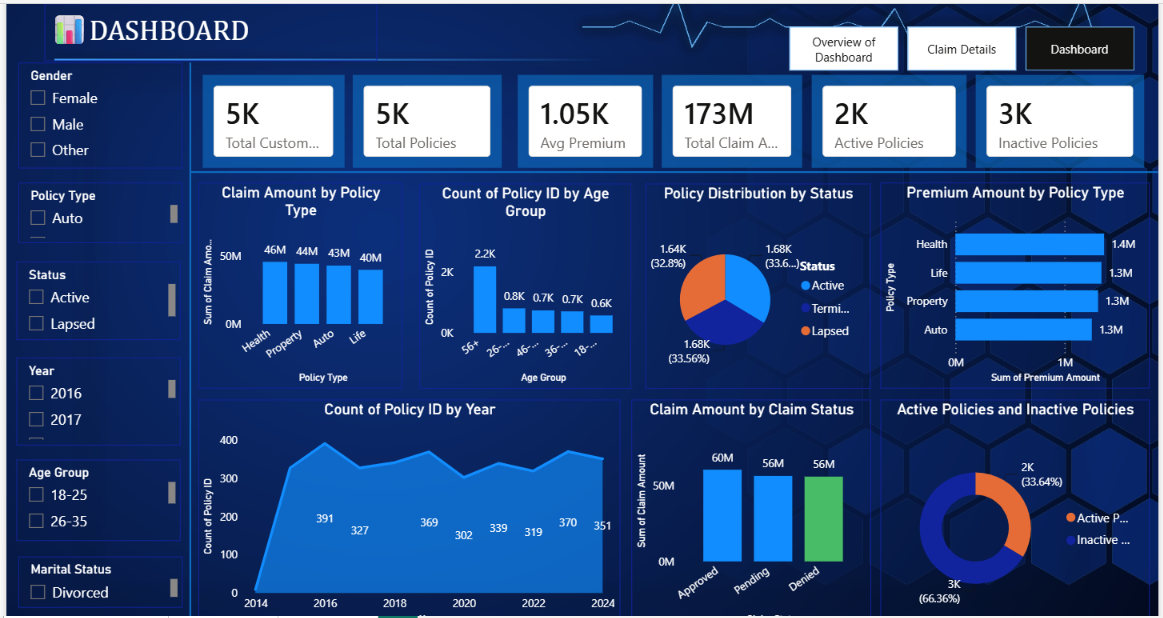

Layout of this report page (visuals, bound fields, positions):
{"tool":"powerbi","page":{"name":"Dashboard","canvas":[1280,720],"ordinal":2},"visuals":[{"type":"cardVisual","fields":{"Data":["Claims.Total Customers"]},"box":[212.8,98.8,167.4,114],"z":0},{"type":"cardVisual","fields":{"Data":["Claims.Total Policies"]},"box":[380.2,98.8,175.6,114],"z":1000},{"type":"cardVisual","fields":{"Data":["Claims.Total avg premimum amt"]},"box":[562.8,98.8,160.5,114],"z":2000},{"type":"cardVisual","fields":{"Data":["Claims.Total Claim Amount"]},"box":[723.3,98.8,166.3,114],"z":3000},{"type":"cardVisual","fields":{"Data":["Claims.Active Policies"]},"box":[889.5,98.8,182.6,114],"z":4000},{"type":"cardVisual","fields":{"Data":["Claims.Inactive Policies"]},"box":[1072.1,98.8,197.7,114],"z":5000},{"type":"pieChart","title":"Policy Distribution by Status","fields":{"Category":["Policy_details.Status"],"Y":["Count(Policy_details.Policy ID)"]},"box":[710.5,224.4,250,227.9],"z":6000},{"type":"clusteredBarChart","title":"Premium Amount by Policy Type","fields":{"Category":["Policy_details.Policy Type"],"Y":["Sum(Policy_details.Premium Amount)"]},"box":[970.9,223.3,298.8,229.1],"z":7000},{"type":"clusteredColumnChart","title":"Claim Amount by Claim Status","fields":{"Category":["Claims.Claim Status"],"Y":["Sum(Claims.Claim Amount)"]},"box":[694.2,464,266.3,255.8],"z":8000},{"type":"stackedAreaChart","fields":{"Category":["Policy_details.Policy Start Date.Variation.Date Hierarchy.Year"],"Y":["CountNonNull(Claims.Policy ID)"]},"box":[212.8,464,468.6,255.8],"z":9000},{"type":"clusteredColumnChart","fields":{"Category":["Customer_info.Age Group"],"Y":["CountNonNull(Policy_details.Policy ID)"]},"box":[459.3,224.4,234.9,227.9],"z":10000},{"type":"clusteredColumnChart","title":" Claim Amount by Policy Type","fields":{"Category":["Policy_details.Policy Type"],"Y":["Sum(Claims.Claim Amount)"]},"box":[212.8,223.3,226.7,229.1],"z":11000},{"type":"shape","box":[204.7,187.2,1075.6,50],"z":12000},{"type":"shape","box":[181.4,89.5,46.5,618.6],"z":13000},{"type":"slicer","fields":{"Values":["Policy_details.Policy Type"]},"box":[12.8,223.3,182.6,67.4],"z":14000},{"type":"slicer","fields":{"Values":["Policy_details.Status"]},"box":[11.6,311.6,182.6,87.2],"z":15000},{"type":"slicer","fields":{"Values":["Policy_details.Policy End Date.Variation.Date Hierarchy.Year"]},"box":[11.6,417.4,182.6,97.7],"z":16000},{"type":"slicer","fields":{"Values":["Customer_info.Marital Status"]},"box":[12.8,638.4,182.6,57],"z":17000},{"type":"slicer","fields":{"Values":["Customer_info.Age Group"]},"box":[11.6,531.4,182.6,90.7],"z":18000},{"type":"slicer","fields":{"Values":["Customer_info.Gender"]},"box":[12.8,89.5,182.6,117.4],"z":19000},{"type":"donutChart","fields":{"Y":["Claims.Active Policies","Claims.Inactive Policies"]},"box":[970.9,464,298.8,255.8],"z":20000},{"type":"textbox","box":[41.8,24.8,369.2,64.4],"z":20001},{"type":"pageNavigator","box":[871.7,33.9,385,49.7],"z":20002}]}

Visuals, with their boxes on the page's 1280x720 design canvas (x1, y1, x2, y2). These are canvas units, not pixel positions in the 1163x618 screenshot, which may show the page scaled, cropped or inside an application window:
cardVisual - Claims.Total Customers: box(213, 99, 380, 213)
cardVisual - Claims.Total Policies: box(380, 99, 556, 213)
cardVisual - Claims.Total avg premimum amt: box(563, 99, 723, 213)
cardVisual - Claims.Total Claim Amount: box(723, 99, 890, 213)
cardVisual - Claims.Active Policies: box(890, 99, 1072, 213)
cardVisual - Claims.Inactive Policies: box(1072, 99, 1270, 213)
"Policy Distribution by Status" pieChart: box(710, 224, 960, 452)
"Premium Amount by Policy Type" clusteredBarChart: box(971, 223, 1270, 452)
"Claim Amount by Claim Status" clusteredColumnChart: box(694, 464, 960, 720)
stackedAreaChart - Policy_details.Policy Start Date.Variation.Date Hierarchy.Year x CountNonNull(Claims.Policy ID): box(213, 464, 681, 720)
clusteredColumnChart - Customer_info.Age Group x CountNonNull(Policy_details.Policy ID): box(459, 224, 694, 452)
" Claim Amount by Policy Type" clusteredColumnChart: box(213, 223, 440, 452)
shape: box(205, 187, 1280, 237)
shape: box(181, 90, 228, 708)
slicer - Policy_details.Policy Type: box(13, 223, 195, 291)
slicer - Policy_details.Status: box(12, 312, 194, 399)
slicer - Policy_details.Policy End Date.Variation.Date Hierarchy.Year: box(12, 417, 194, 515)
slicer - Customer_info.Marital Status: box(13, 638, 195, 695)
slicer - Customer_info.Age Group: box(12, 531, 194, 622)
slicer - Customer_info.Gender: box(13, 90, 195, 207)
donutChart - Claims.Active Policies x Claims.Inactive Policies: box(971, 464, 1270, 720)
textbox: box(42, 25, 411, 89)
pageNavigator: box(872, 34, 1257, 84)
